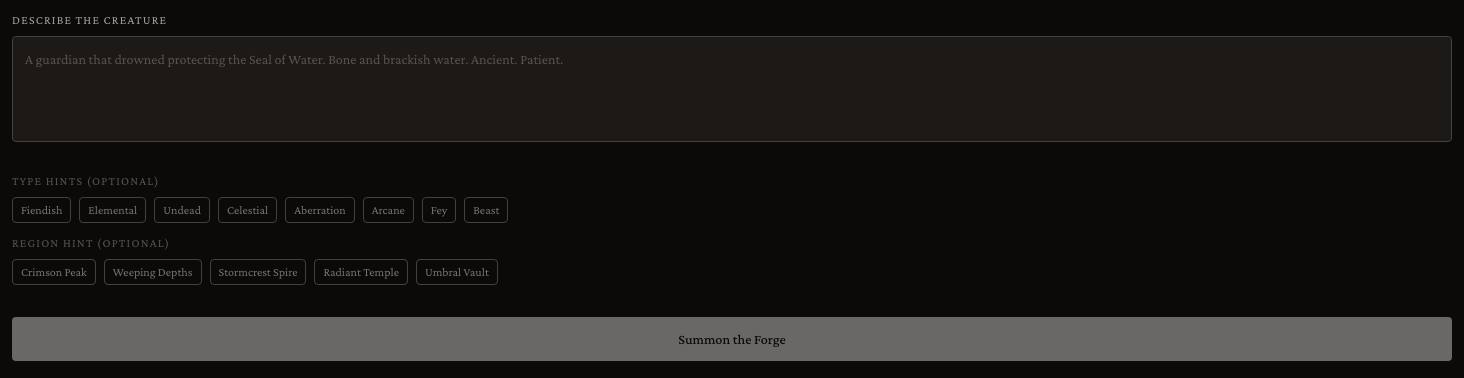
Test: StepConcept › enables the submit button when concept has text
The image size is (1464, 378).
Replace the text in the text box with "A guardian of the deep" at (732, 89), box [12,36,1452,142]
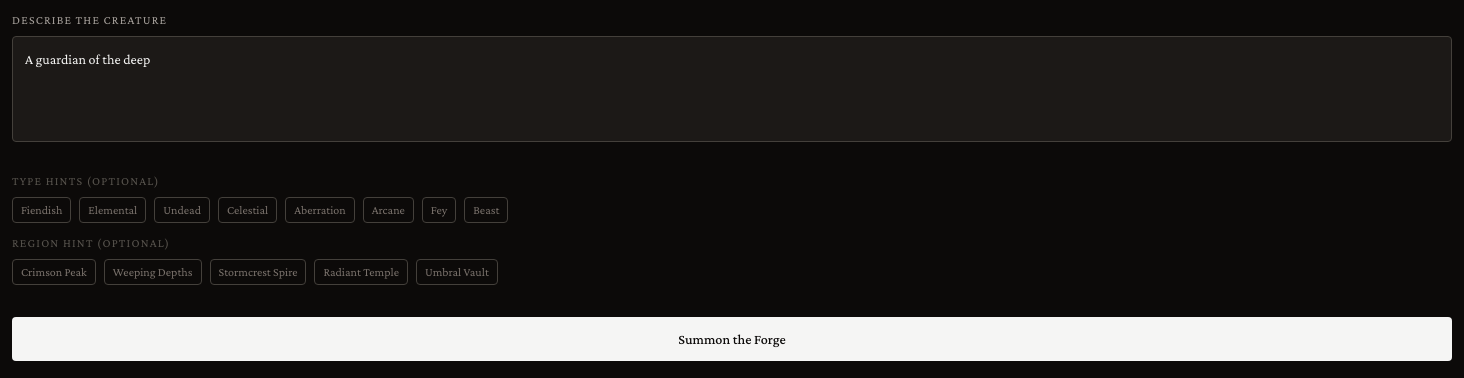
expect the button "Summon the Forge" is enabled: met, box [12,317,1452,361]
